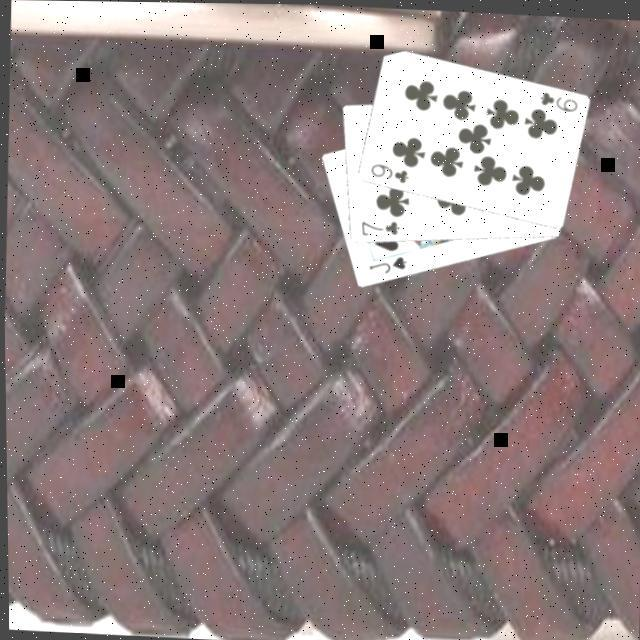7C: (356, 214, 400, 239)
9C: (534, 85, 578, 114), (366, 157, 410, 184)
JS: (362, 249, 408, 276)
